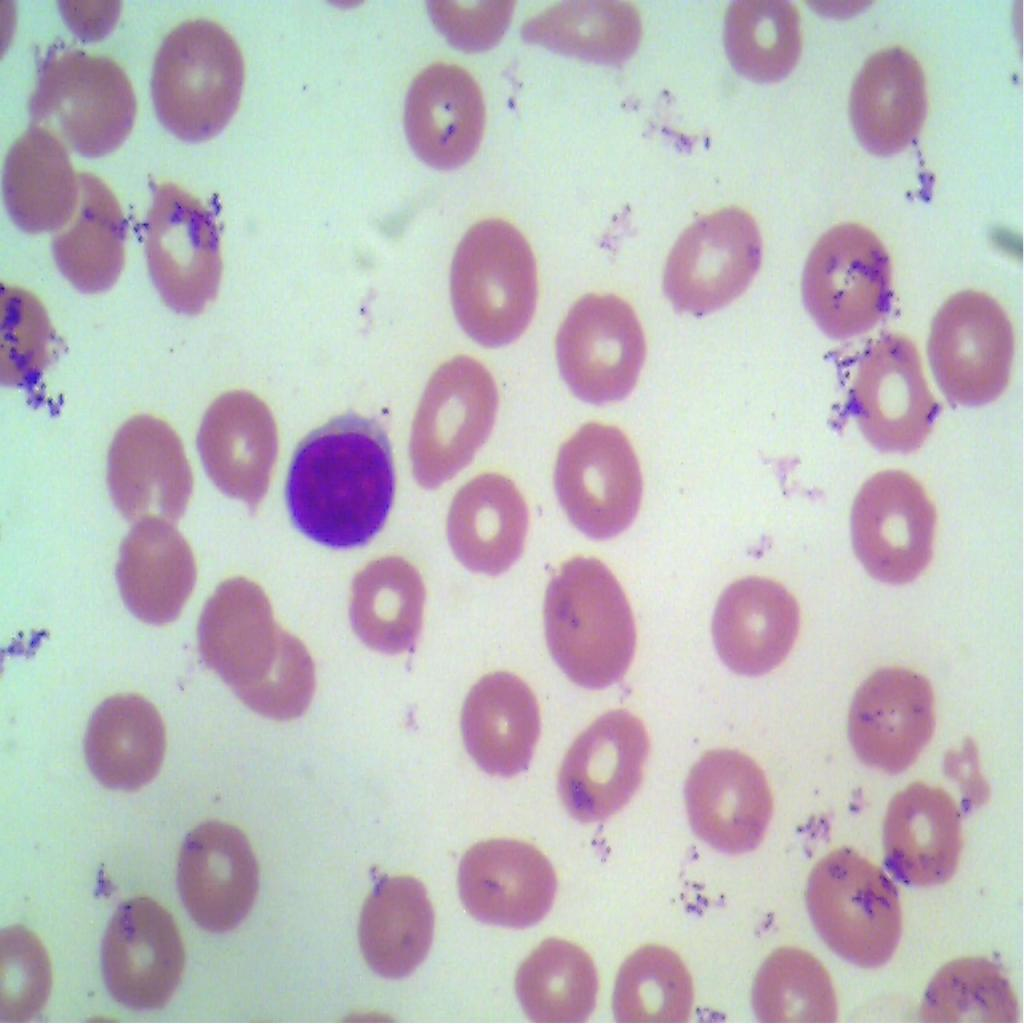Eritrosit: (543, 538, 651, 708), (869, 748, 981, 911), (162, 810, 278, 954), (831, 321, 943, 464), (135, 15, 256, 147), (134, 174, 238, 327), (548, 417, 654, 559), (799, 847, 916, 971), (551, 275, 651, 420), (450, 832, 564, 957), (395, 343, 499, 479), (795, 218, 903, 346), (676, 738, 784, 865), (846, 655, 952, 784), (658, 198, 766, 324), (448, 218, 546, 355), (844, 52, 946, 182), (551, 702, 658, 825), (75, 674, 175, 804), (838, 464, 944, 585), (339, 547, 441, 671), (89, 886, 186, 1014), (43, 168, 131, 308), (396, 59, 499, 178), (103, 509, 198, 637), (42, 38, 140, 159), (451, 452, 535, 588), (99, 408, 189, 534), (713, 0, 816, 108), (466, 664, 549, 798), (708, 568, 809, 678), (189, 374, 271, 504), (515, 0, 638, 85), (358, 850, 440, 972), (502, 922, 598, 1023), (930, 287, 1010, 408), (3, 118, 82, 232), (238, 616, 312, 728), (604, 942, 698, 1023), (199, 568, 268, 678), (746, 939, 828, 1023), (0, 924, 63, 1021)
Limfosit: (282, 411, 406, 561)
